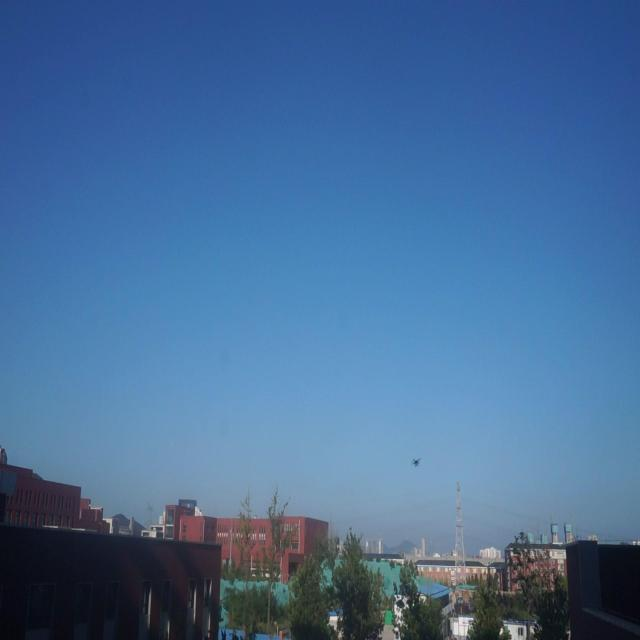drone: (408, 452, 424, 472)
